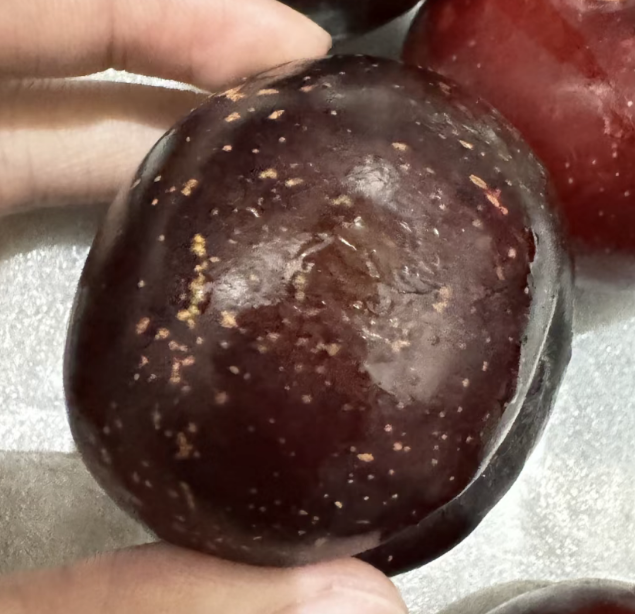plum_C: (59, 55, 565, 564)
